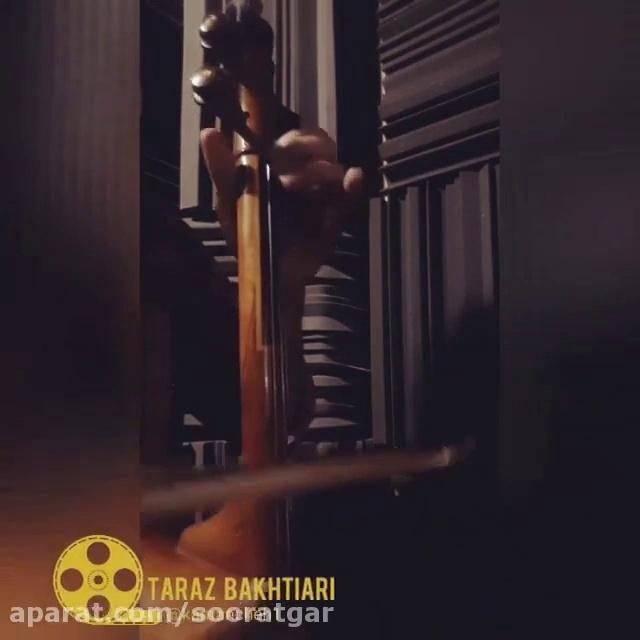Kamanche: (151, 4, 298, 632)
